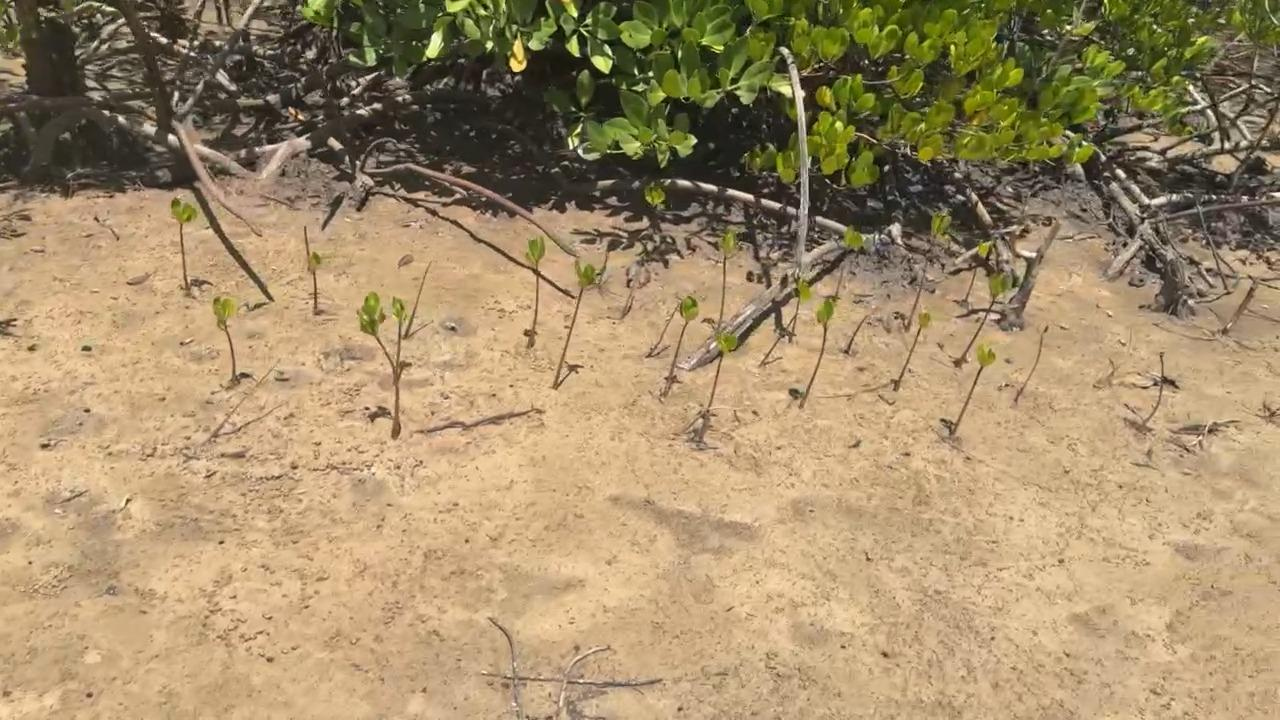Tree: (356, 292, 411, 439), (553, 258, 598, 389), (907, 211, 953, 329), (958, 271, 1011, 359), (950, 345, 999, 434), (800, 298, 836, 409), (661, 296, 699, 396), (895, 311, 933, 392), (1014, 323, 1050, 401), (172, 198, 199, 290), (403, 261, 433, 338), (708, 330, 737, 408), (719, 229, 742, 327), (526, 236, 546, 348), (835, 225, 865, 298), (213, 298, 239, 379), (759, 313, 798, 367), (964, 242, 993, 300), (789, 278, 809, 341), (645, 187, 663, 244), (846, 314, 869, 355), (307, 253, 319, 311), (304, 226, 310, 255)
